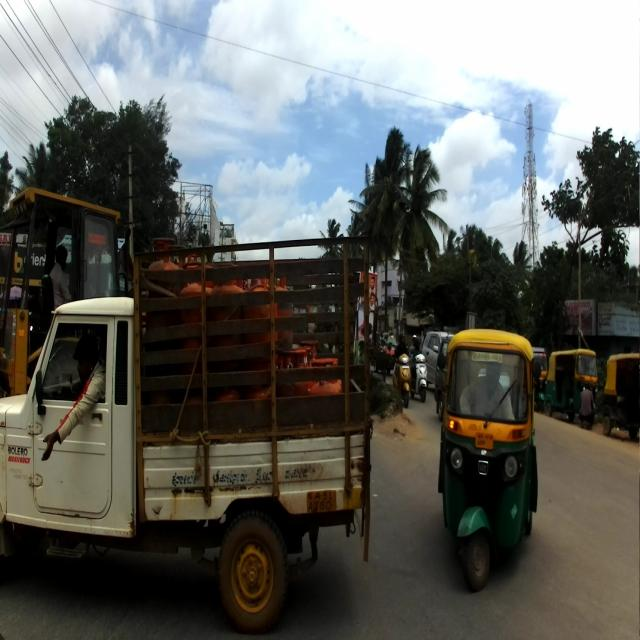autorickshaw: (435, 327, 541, 592), (544, 348, 598, 426)
scooter: (392, 353, 411, 408), (411, 350, 428, 401)
truck: (0, 232, 374, 629)
